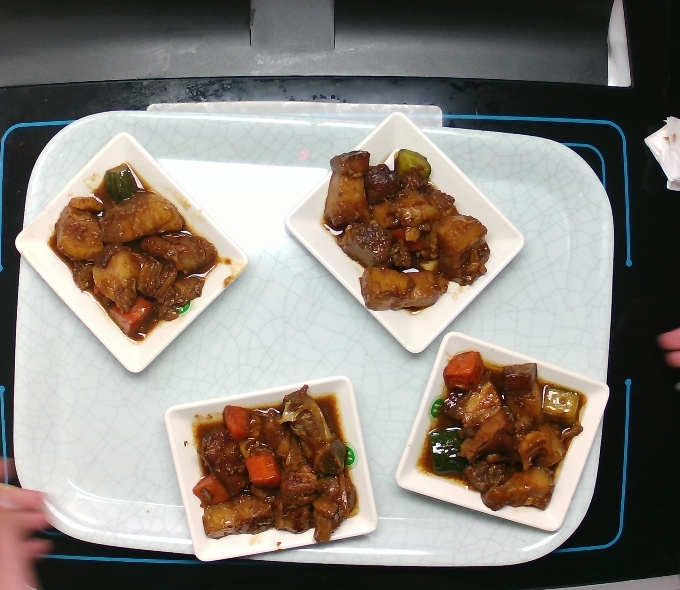wcq-JiangRou: (325, 146, 493, 321), (54, 165, 220, 340), (195, 380, 358, 543), (420, 350, 582, 510)
